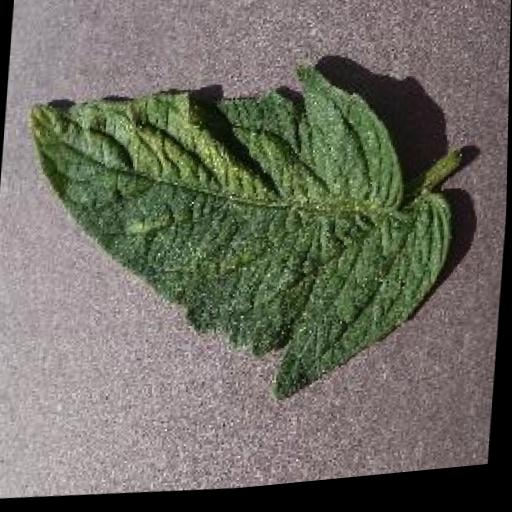Spider Mites: (10, 45, 462, 427)
